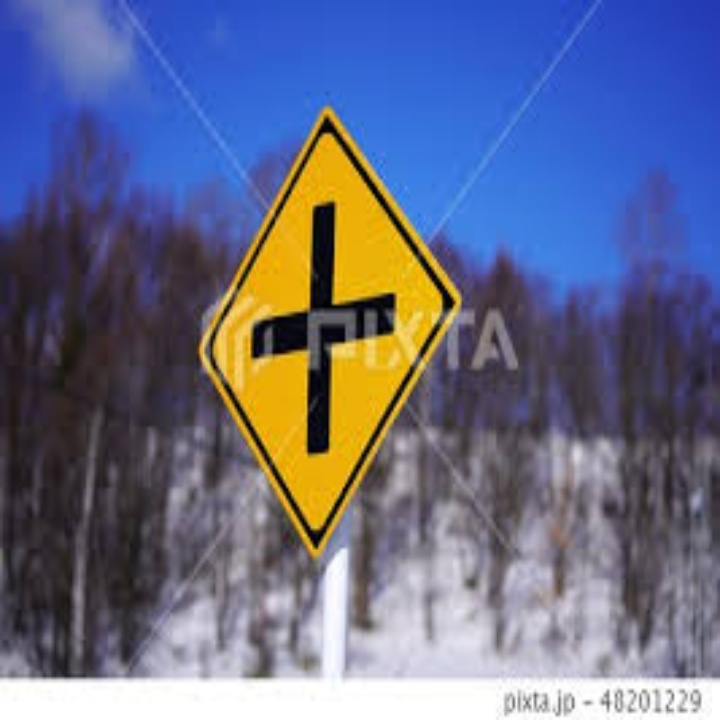inter: (245, 188, 401, 458)
